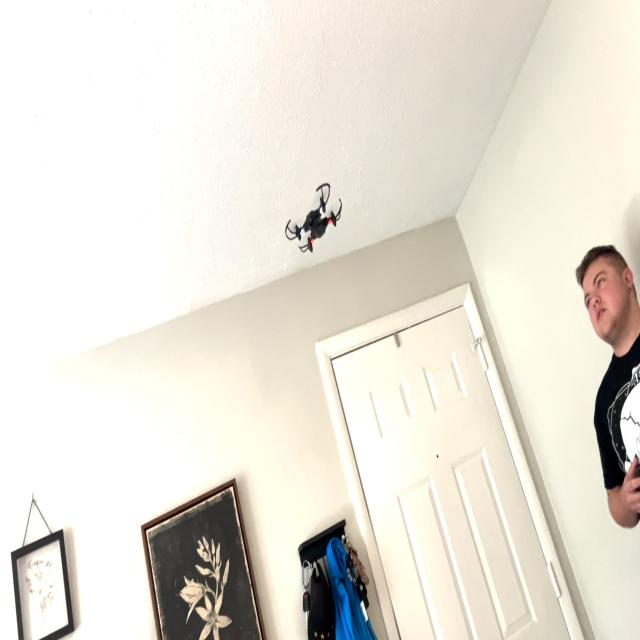drone: (274, 163, 342, 265)
